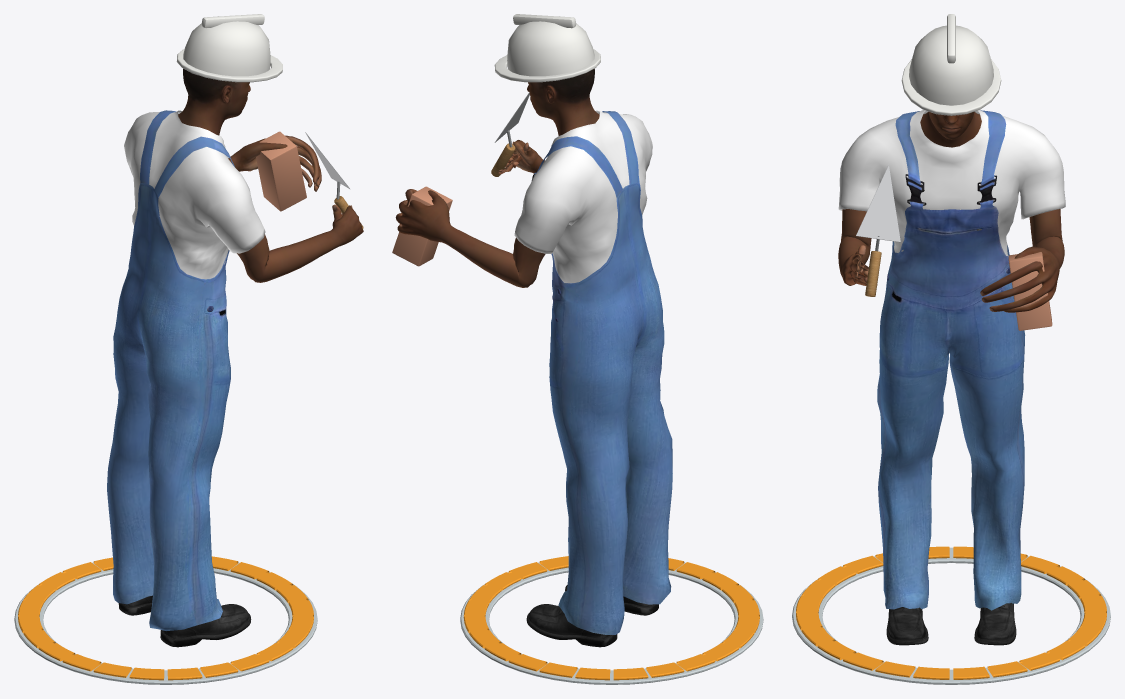
Rendered from MDO-OBR-002.glb.
3 views of the same model, side by side, from view 1: azimuth 30°, elevation 25°; view 2: azimuth 150°, elevation 25°; view 3: azimuth 270°, elevation 25° (orthographic). The views are drawn at different scales.
Visible parts, largest first — view 1: MDO-OBR-002_pessoa_male_worksuit01, MDO-OBR-002_pessoa, MDO-OBR-002_capacete, MDO-OBR-002_anel_fundo, MDO-OBR-002_ferE_bloco, MDO-OBR-002_pessoa_shoes04, MDO-OBR-002_capacete_aba, MDO-OBR-002_capacete_friso; view 2: MDO-OBR-002_pessoa_male_worksuit01, MDO-OBR-002_pessoa, MDO-OBR-002_capacete, MDO-OBR-002_anel_fundo, MDO-OBR-002_pessoa_shoes04, MDO-OBR-002_ferE_bloco, MDO-OBR-002_capacete_aba, MDO-OBR-002_capacete_friso; view 3: MDO-OBR-002_pessoa_male_worksuit01, MDO-OBR-002_pessoa, MDO-OBR-002_capacete, MDO-OBR-002_anel_fundo, MDO-OBR-002_pessoa_shoes04, MDO-OBR-002_ferD_lamina, MDO-OBR-002_ferE_bloco, MDO-OBR-002_capacete_aba, MDO-OBR-002_ferD_cabo.
Boxes of the visible parts, x1=… form: MDO-OBR-002_pessoa_male_worksuit01: x1=107, y1=110, x2=265, y2=630; MDO-OBR-002_pessoa: x1=178, y1=68, x2=363, y2=282; MDO-OBR-002_capacete: x1=183, y1=16, x2=270, y2=76; MDO-OBR-002_anel_fundo: x1=14, y1=562, x2=317, y2=684; MDO-OBR-002_ferE_bloco: x1=256, y1=131, x2=306, y2=211; MDO-OBR-002_pessoa_shoes04: x1=118, y1=595, x2=251, y2=647; MDO-OBR-002_capacete_aba: x1=176, y1=49, x2=282, y2=82; MDO-OBR-002_capacete_friso: x1=201, y1=14, x2=264, y2=28; MDO-OBR-002_pessoa_male_worksuit01: x1=514, y1=110, x2=672, y2=634; MDO-OBR-002_pessoa: x1=395, y1=68, x2=599, y2=287; MDO-OBR-002_capacete: x1=507, y1=16, x2=594, y2=76; MDO-OBR-002_anel_fundo: x1=460, y1=562, x2=763, y2=684; MDO-OBR-002_pessoa_shoes04: x1=526, y1=585, x2=658, y2=647; MDO-OBR-002_ferE_bloco: x1=392, y1=186, x2=452, y2=266; MDO-OBR-002_capacete_aba: x1=494, y1=49, x2=600, y2=82; MDO-OBR-002_capacete_friso: x1=513, y1=14, x2=576, y2=28; MDO-OBR-002_pessoa_male_worksuit01: x1=838, y1=110, x2=1065, y2=610; MDO-OBR-002_pessoa: x1=838, y1=111, x2=1064, y2=312; MDO-OBR-002_capacete: x1=909, y1=25, x2=993, y2=105; MDO-OBR-002_anel_fundo: x1=792, y1=547, x2=1110, y2=684; MDO-OBR-002_pessoa_shoes04: x1=886, y1=603, x2=1016, y2=645; MDO-OBR-002_ferD_lamina: x1=856, y1=165, x2=900, y2=242; MDO-OBR-002_ferE_bloco: x1=1008, y1=252, x2=1052, y2=330; MDO-OBR-002_capacete_aba: x1=901, y1=59, x2=1001, y2=115; MDO-OBR-002_ferD_cabo: x1=865, y1=251, x2=881, y2=296.
Size of the model in its own units: 0.9959 by 1.82 by 0.84.
12 materials, 6 textured.
